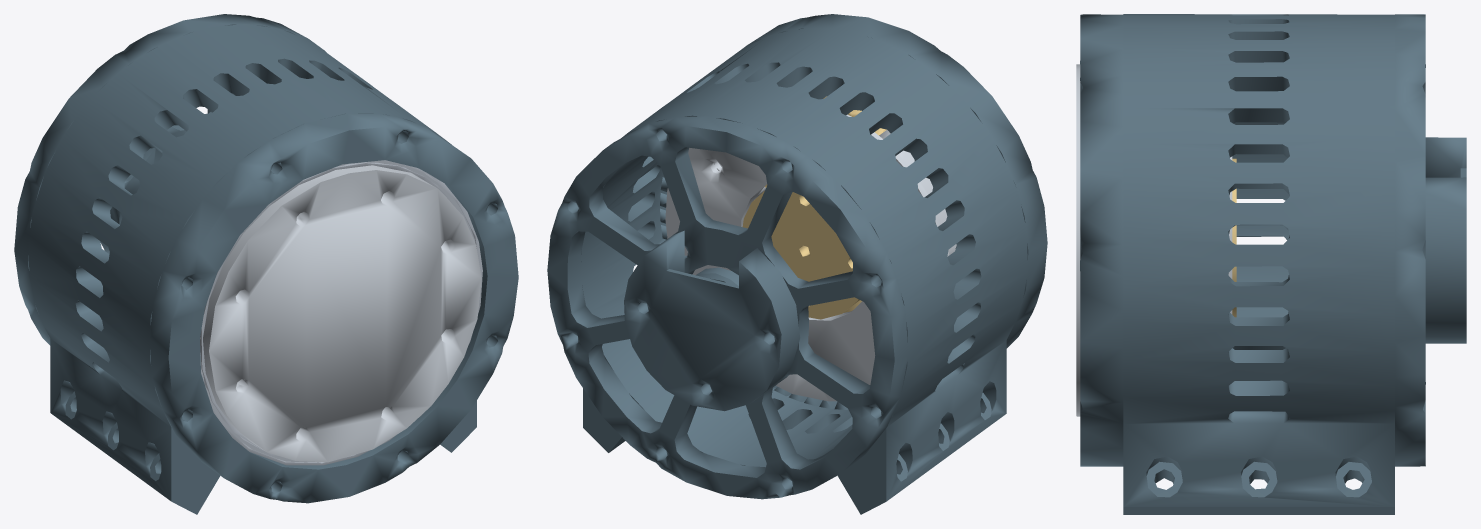
The model's file is OpenTorque_LOD2.fbx.
The picture shows the model from 3 angles, left to right: view 1: azimuth 30°, elevation 25°; view 2: azimuth 150°, elevation 25°; view 3: azimuth 270°, elevation 25°; orthographic projection. The views are drawn at different scales.
Parts seen in each view (by area): view 1: MM_OpenTorque_mobile_overview; view 2: MM_OpenTorque_mobile_overview; view 3: MM_OpenTorque_mobile_overview.
Part boxes in pixels (<box>): MM_OpenTorque_mobile_overview: <box>14,14,518,514</box>; MM_OpenTorque_mobile_overview: <box>547,14,1047,514</box>; MM_OpenTorque_mobile_overview: <box>1076,14,1466,514</box>.
Bounding box in the file's own units: 0.1102 × 0.1102 × 0.095.
